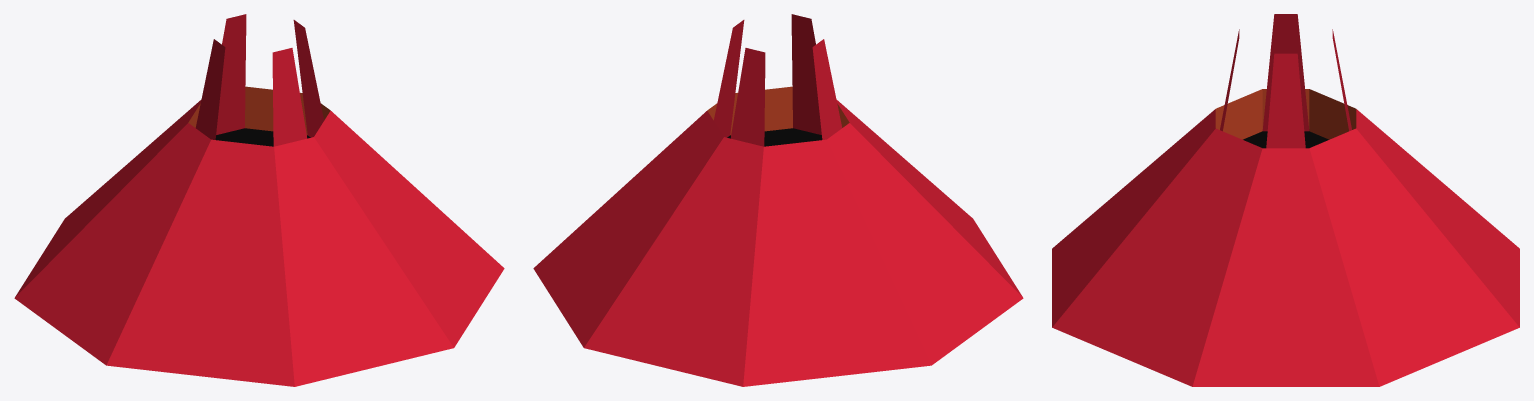
The picture shows the model from 3 angles, left to right: view 1: azimuth 30°, elevation 25°; view 2: azimuth 150°, elevation 25°; view 3: azimuth 270°, elevation 25°; orthographic projection.
Visible parts, largest first — view 1: VIFS002, VIFS001, VIFS003; view 2: VIFS002, VIFS001, VIFS003; view 3: VIFS002, VIFS001, VIFS003.
Part boxes in pixels (x1=…): VIFS002: x1=14, y1=14, x2=504, y2=386; VIFS001: x1=188, y1=86, x2=330, y2=135; VIFS003: x1=215, y1=128, x2=310, y2=146; VIFS002: x1=533, y1=14, x2=1023, y2=386; VIFS001: x1=707, y1=86, x2=849, y2=135; VIFS003: x1=727, y1=128, x2=822, y2=146; VIFS002: x1=1052, y1=14, x2=1519, y2=386; VIFS001: x1=1215, y1=89, x2=1356, y2=139; VIFS003: x1=1243, y1=131, x2=1328, y2=148.
Bounding box in the file's own units: 1 × 0.6 × 1.
